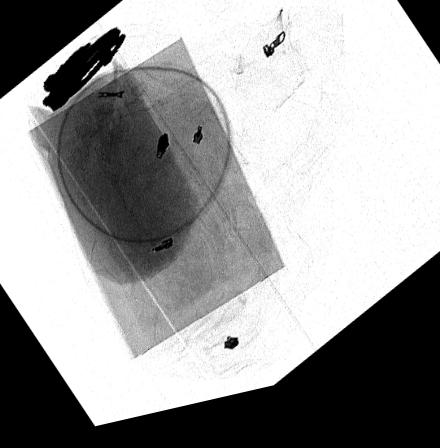HandCuffs: (41, 31, 126, 113)
